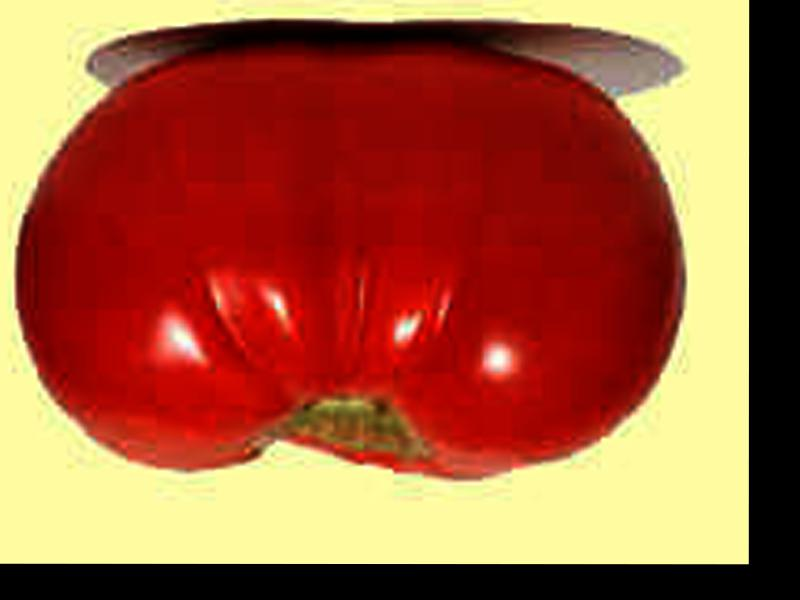Tomato: (15, 42, 681, 480)
